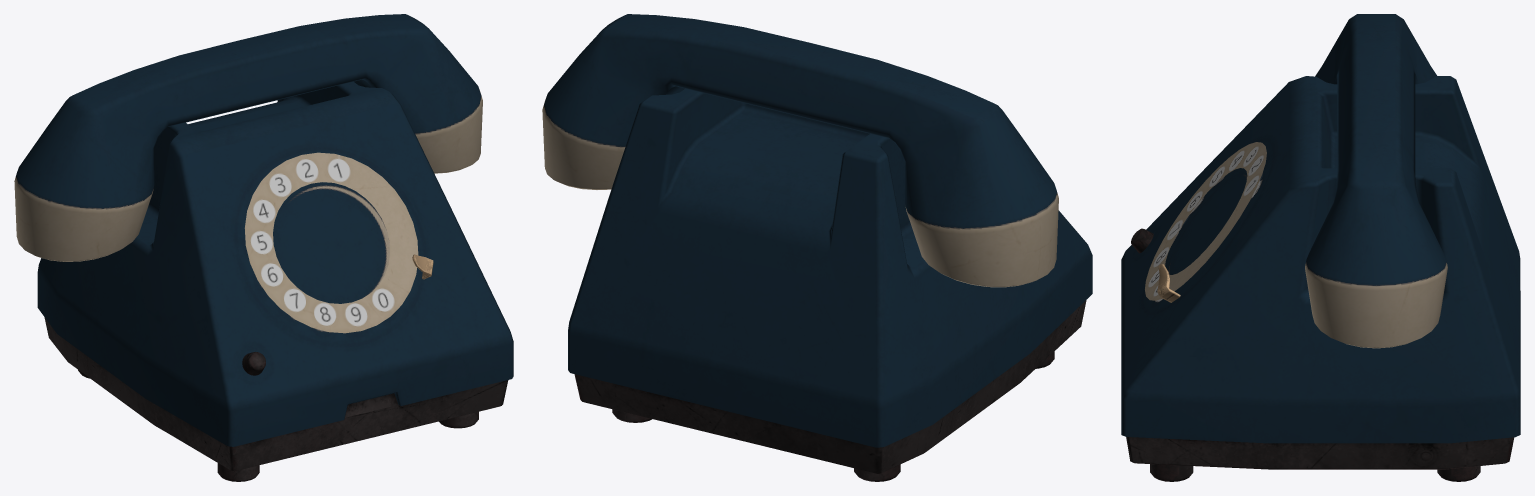
The model's file is telephone 1.fbx.
3 views of the same model, side by side, from view 1: azimuth 30°, elevation 25°; view 2: azimuth 150°, elevation 25°; view 3: azimuth 270°, elevation 25° (orthographic). The views are drawn at different scales.
Parts seen in each view (by area): view 1: SM_OldPhone_Full, SM_OldPhone_Full.003, Circle.005; view 2: SM_OldPhone_Full, SM_OldPhone_Full.003; view 3: SM_OldPhone_Full, SM_OldPhone_Full.003, Circle.005.
Boxes of the visible parts, x1,y1,x2,y2 form: SM_OldPhone_Full: (37,81,513,481); SM_OldPhone_Full.003: (14,14,482,261); Circle.005: (244,152,418,333); SM_OldPhone_Full: (568,88,1092,481); SM_OldPhone_Full.003: (542,14,1058,287); SM_OldPhone_Full: (1121,76,1520,481); SM_OldPhone_Full.003: (1305,14,1447,348); Circle.005: (1145,142,1266,300).
Size of the model in its own units: 93.6 by 66.54 by 70.
